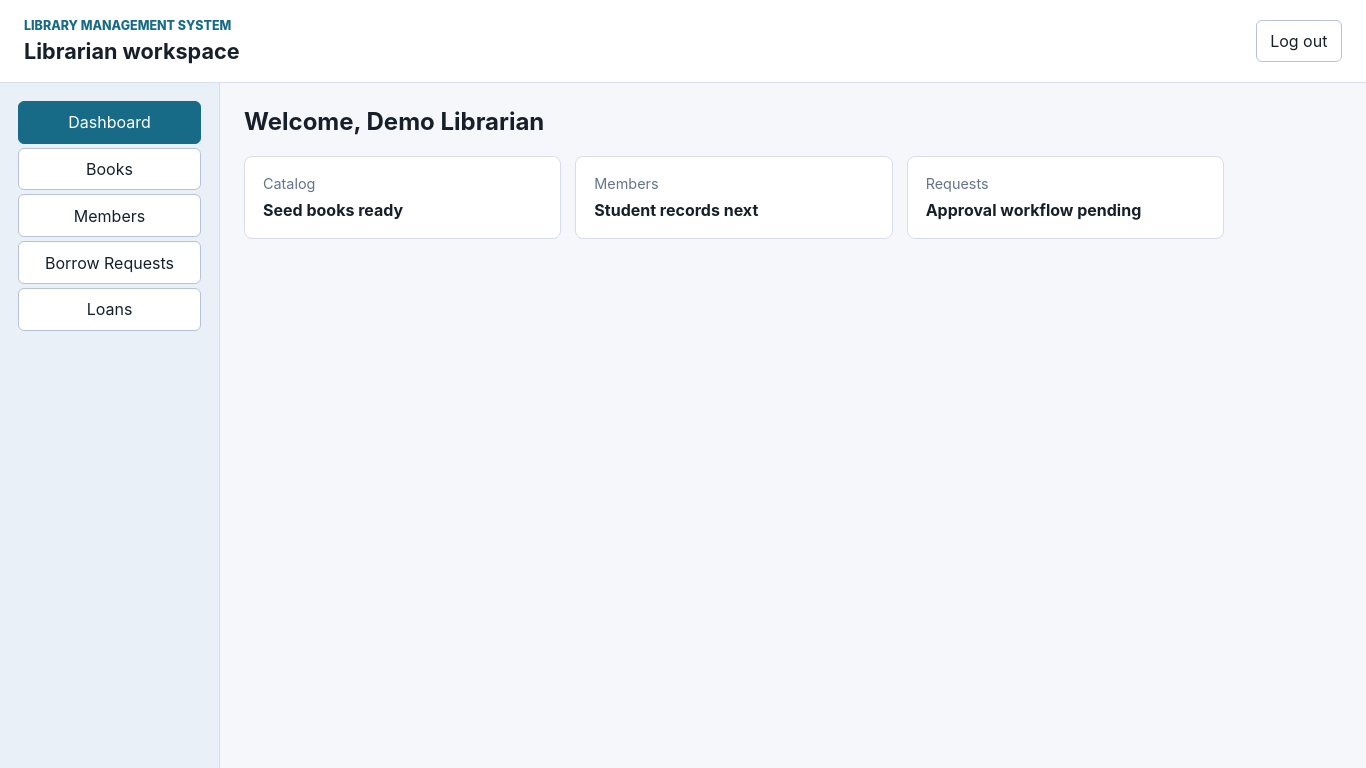
Test: catalog and books pages › renders the librarian Books page and disables delete for unavailable books
Click the button "Books".
click(110, 169)  # box left=18, top=148, right=201, bottom=190
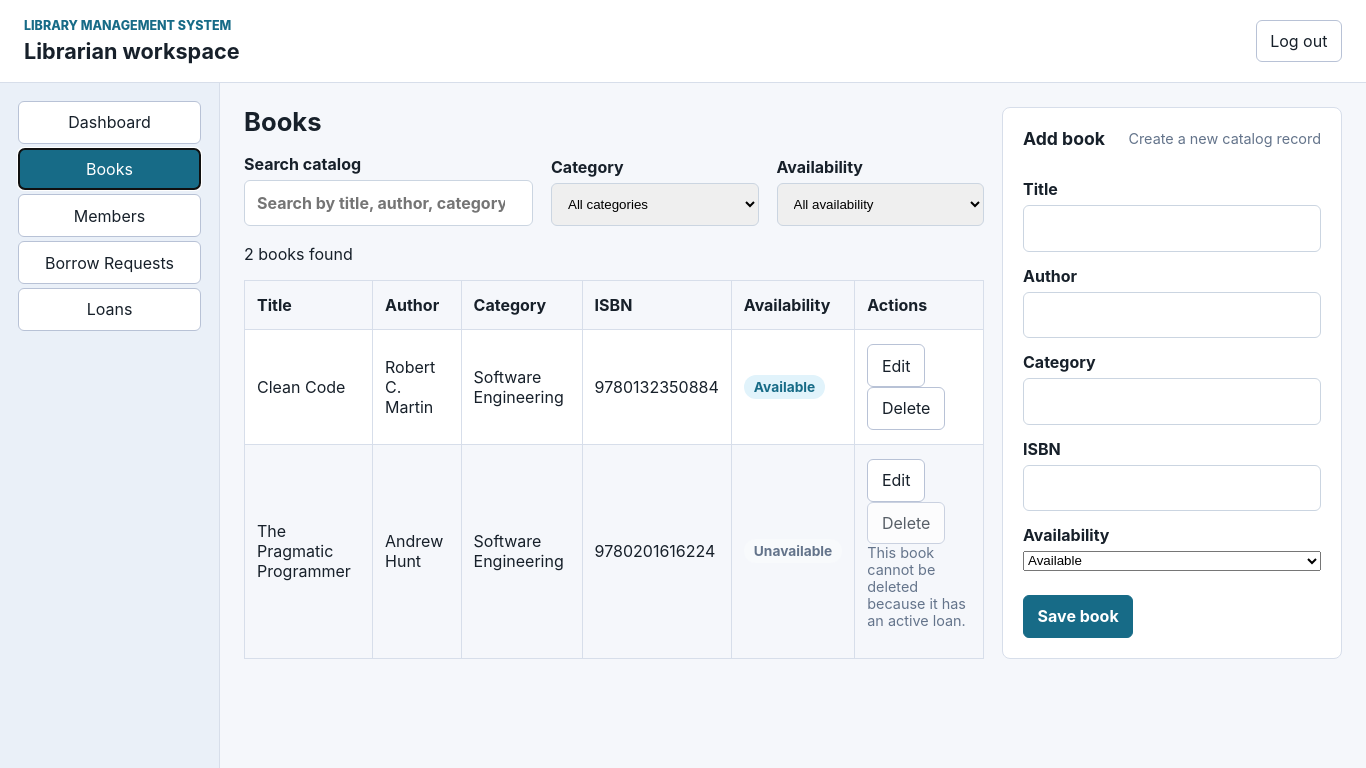
Check: the heading "Books" is shown, box left=244, top=106, right=322, bottom=137
Check: the heading "Add book" is shown, box left=1023, top=128, right=1105, bottom=149
Check: the button "Delete" in the row of "The Pragmatic Programmer" is disabled, box left=867, top=502, right=945, bottom=544
